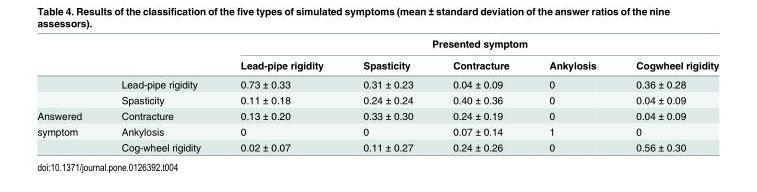table: (36, 37, 718, 152)
table column: (219, 37, 342, 152), (100, 37, 219, 152), (615, 37, 718, 152), (432, 37, 528, 152), (342, 37, 432, 152), (528, 37, 615, 152), (36, 37, 100, 152)
table column header: (36, 37, 718, 74)
table row: (36, 53, 718, 74), (36, 74, 718, 91), (36, 37, 718, 53), (36, 91, 718, 107), (36, 107, 718, 123), (36, 123, 718, 139), (36, 139, 718, 152)
table spanning cell: (219, 37, 718, 53), (36, 123, 100, 152)
